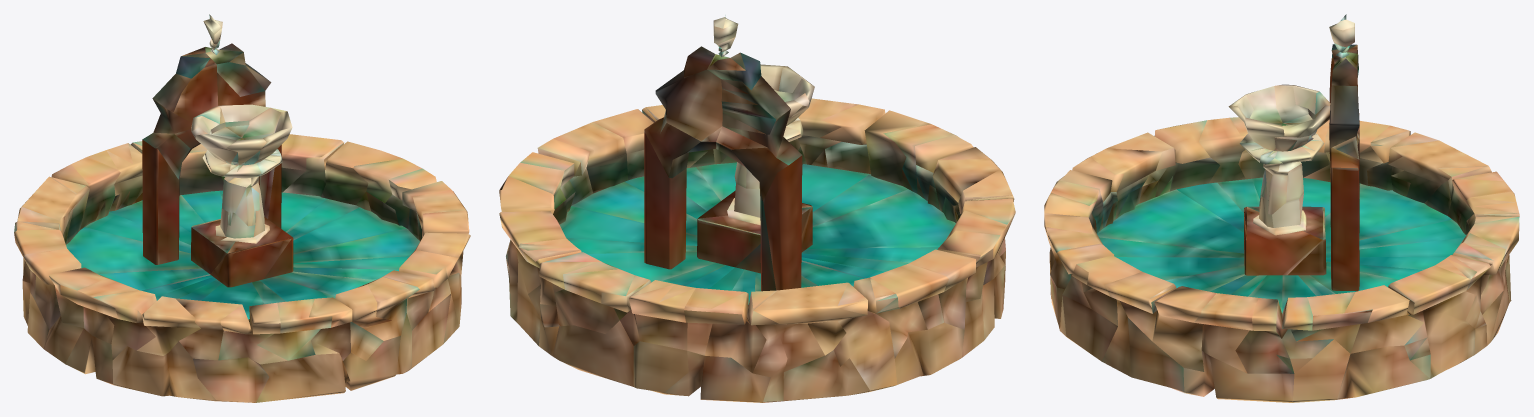
Rendered from fountain.lod2.glb.
The picture shows the model from 3 angles, left to right: view 1: azimuth 30°, elevation 25°; view 2: azimuth 150°, elevation 25°; view 3: azimuth 270°, elevation 25°; orthographic projection. The views are drawn at different scales.
Bounding box in the file's own units: 3 × 2.02 × 3.
Materials: 1 (1 with a texture image).
